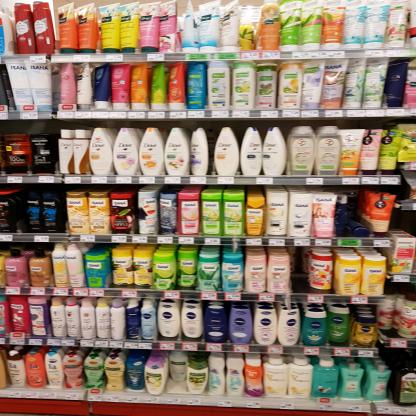Void: (169, 381, 183, 392)
